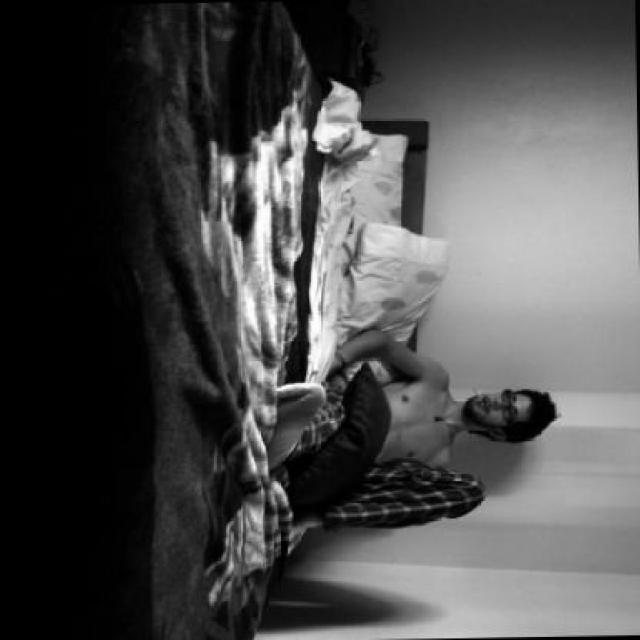smoke: (470, 388, 484, 401)
